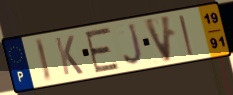E: (83, 26, 121, 75)
I: (33, 36, 54, 84), (177, 13, 197, 58)
J: (122, 21, 145, 67)
K: (53, 34, 85, 77)
V: (142, 13, 174, 65)
